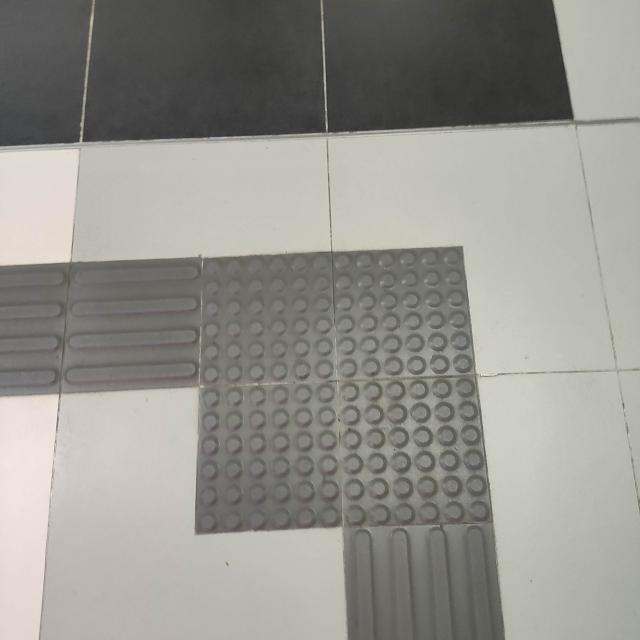kiri: (24, 205, 605, 640)
